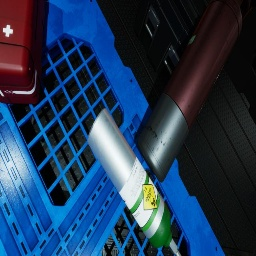0: (88, 108, 182, 256)
FirstAidBox ,: (0, 0, 45, 104)
NitrogenTank ,: (137, 0, 250, 183)
